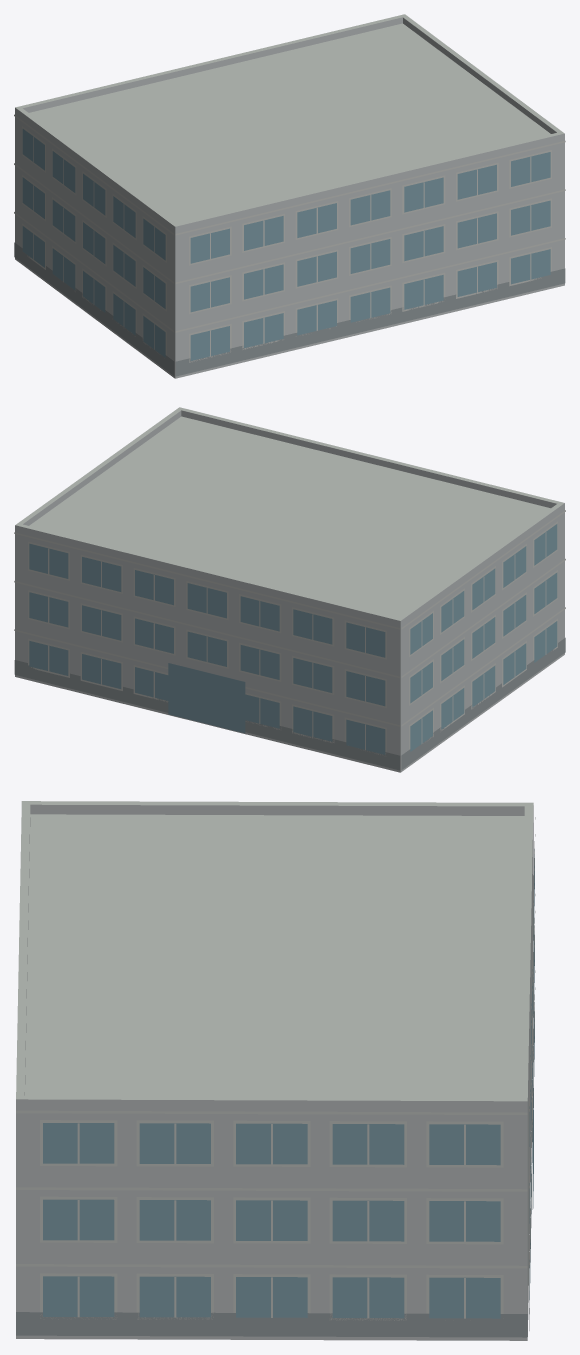
File: public-db2a707d-6426-4221-a17c-8931ecbd56ab.glb
3 views of the same model, one above another, from view 1: azimuth 30°, elevation 25°; view 2: azimuth 150°, elevation 25°; view 3: azimuth 270°, elevation 25° (orthographic). The views are drawn at different scales.
Parts seen in each view (by area): view 1: public-db2a707d-6426-4221-a17c-8931ecbd56ab; view 2: public-db2a707d-6426-4221-a17c-8931ecbd56ab; view 3: public-db2a707d-6426-4221-a17c-8931ecbd56ab.
Boxes of the visible parts, <box> form: public-db2a707d-6426-4221-a17c-8931ecbd56ab: <box>14,14,565,378</box>; public-db2a707d-6426-4221-a17c-8931ecbd56ab: <box>14,407,565,772</box>; public-db2a707d-6426-4221-a17c-8931ecbd56ab: <box>16,801,535,1340</box>.
Size of the model in its own units: 24.72 by 9.15 by 19.1.
